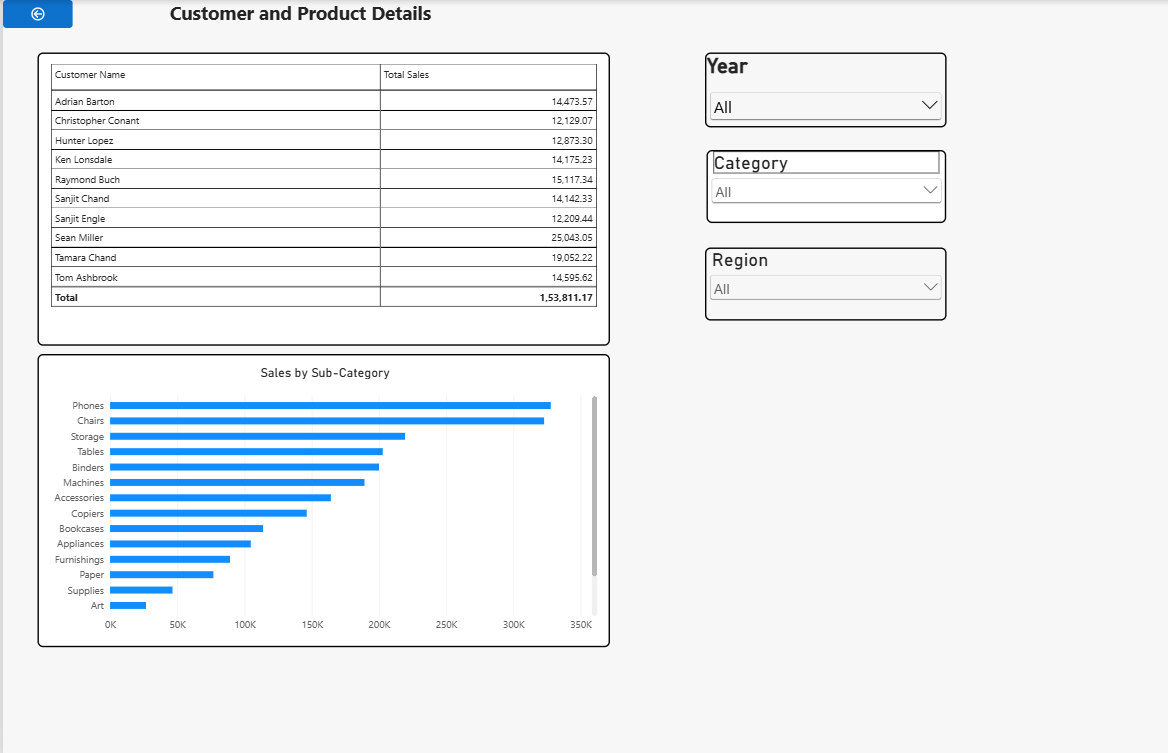

This screenshot's page, from the dashboard's own definition file:
{"tool":"powerbi","page":{"name":"Details","canvas":[1920,1080],"ordinal":1},"visuals":[{"type":"textbox","box":[100,0,650,97.5],"z":0},{"type":"tableEx","fields":{"Values":["superstore_clean.Customer Name","superstore_clean.Total Sales"]},"box":[50,76,820,420],"z":1},{"type":"actionButton","box":[0,0,100,40],"z":2},{"type":"clusteredBarChart","title":"Sales by Sub-Category","fields":{"Category":["superstore_clean.Sub-Category"],"Y":["superstore_clean.Total Sales"]},"box":[50,506,820,420],"z":3},{"type":"slicer","title":"Year","fields":{"Values":["superstore_clean.Year"]},"box":[1006,76,346,107.4],"z":4},{"type":"slicer","fields":{"Values":["superstore_clean.Category"]},"box":[1008,214,343.6,105],"z":5},{"type":"slicer","fields":{"Values":["superstore_clean.Region"]},"box":[1006,354,346,105],"z":6}]}

Visuals, with their boxes on the page's 1920x1080 design canvas (x1, y1, x2, y2). These are canvas units, not pixel positions in the 1168x753 screenshot, which may show the page scaled, cropped or inside an application window:
textbox: x1=100, y1=0, x2=750, y2=98
tableEx - superstore_clean.Customer Name x superstore_clean.Total Sales: x1=50, y1=76, x2=870, y2=496
actionButton: x1=0, y1=0, x2=100, y2=40
"Sales by Sub-Category" clusteredBarChart: x1=50, y1=506, x2=870, y2=926
"Year" slicer: x1=1006, y1=76, x2=1352, y2=183
slicer - superstore_clean.Category: x1=1008, y1=214, x2=1352, y2=319
slicer - superstore_clean.Region: x1=1006, y1=354, x2=1352, y2=459
